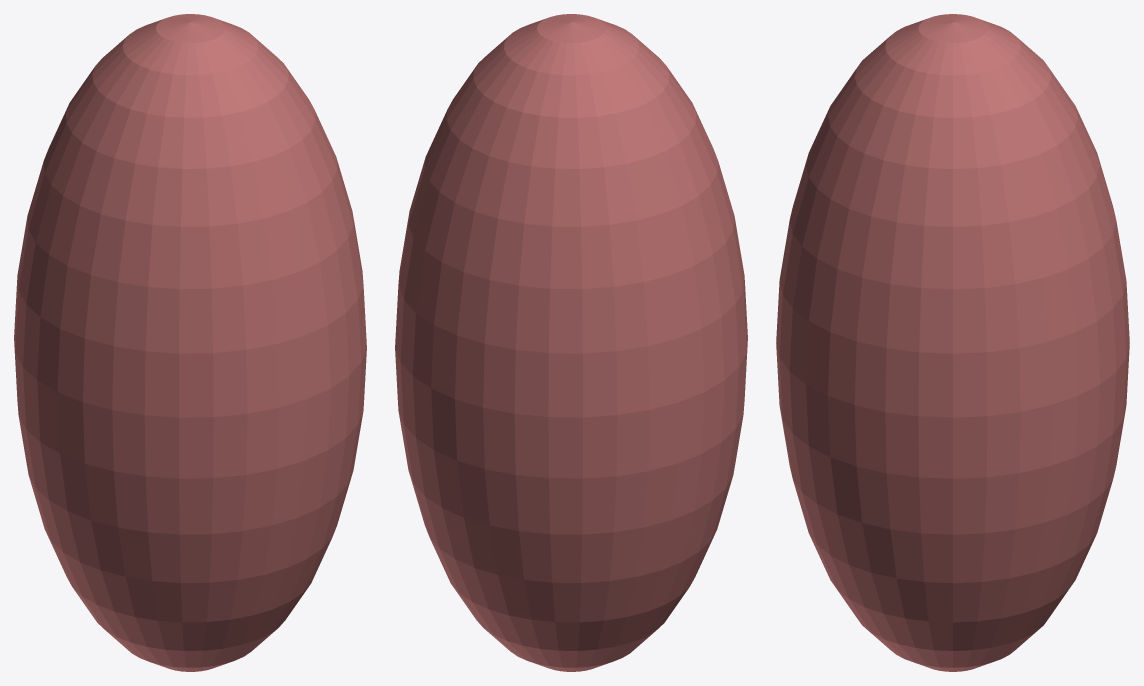
Rendered from knightEnemy.gltf.
The picture shows the model from 3 angles, left to right: view 1: azimuth 30°, elevation 25°; view 2: azimuth 150°, elevation 25°; view 3: azimuth 270°, elevation 25°; orthographic projection.
Parts seen in each view (by area): view 1: 球; view 2: 球; view 3: 球.
Part boxes in pixels (x1=…): 球: x1=14, y1=14, x2=366, y2=671; 球: x1=395, y1=14, x2=747, y2=671; 球: x1=776, y1=14, x2=1129, y2=671.
Bounding box in the file's own units: 1 × 2 × 1.
1 material, 1 textured.
